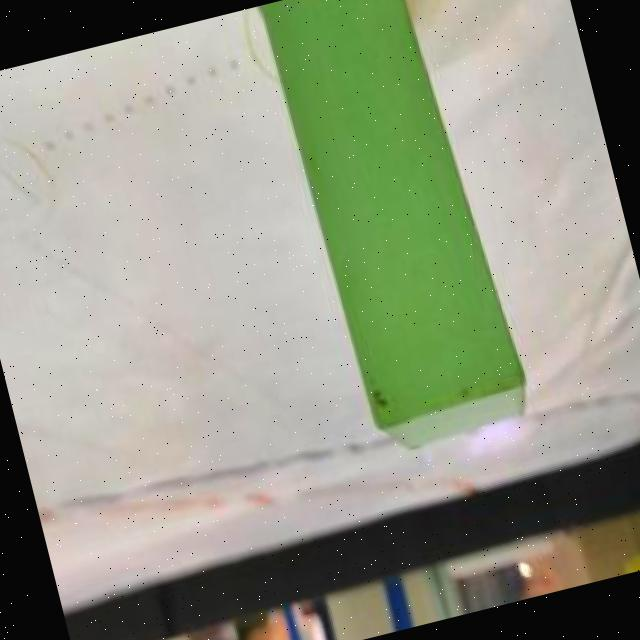greenbox: (254, 0, 543, 468)
